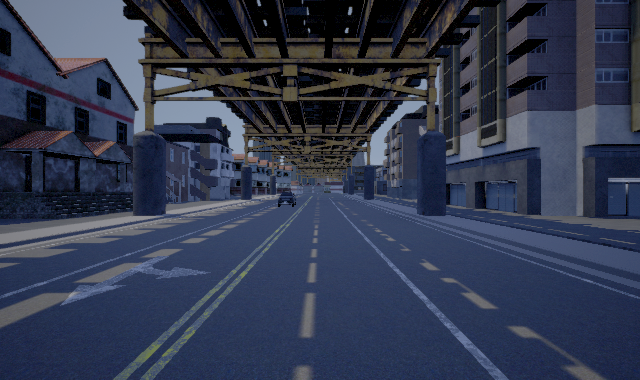vehicle: (275, 189, 298, 209)
